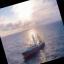fishing boat: (14, 28, 48, 62)
